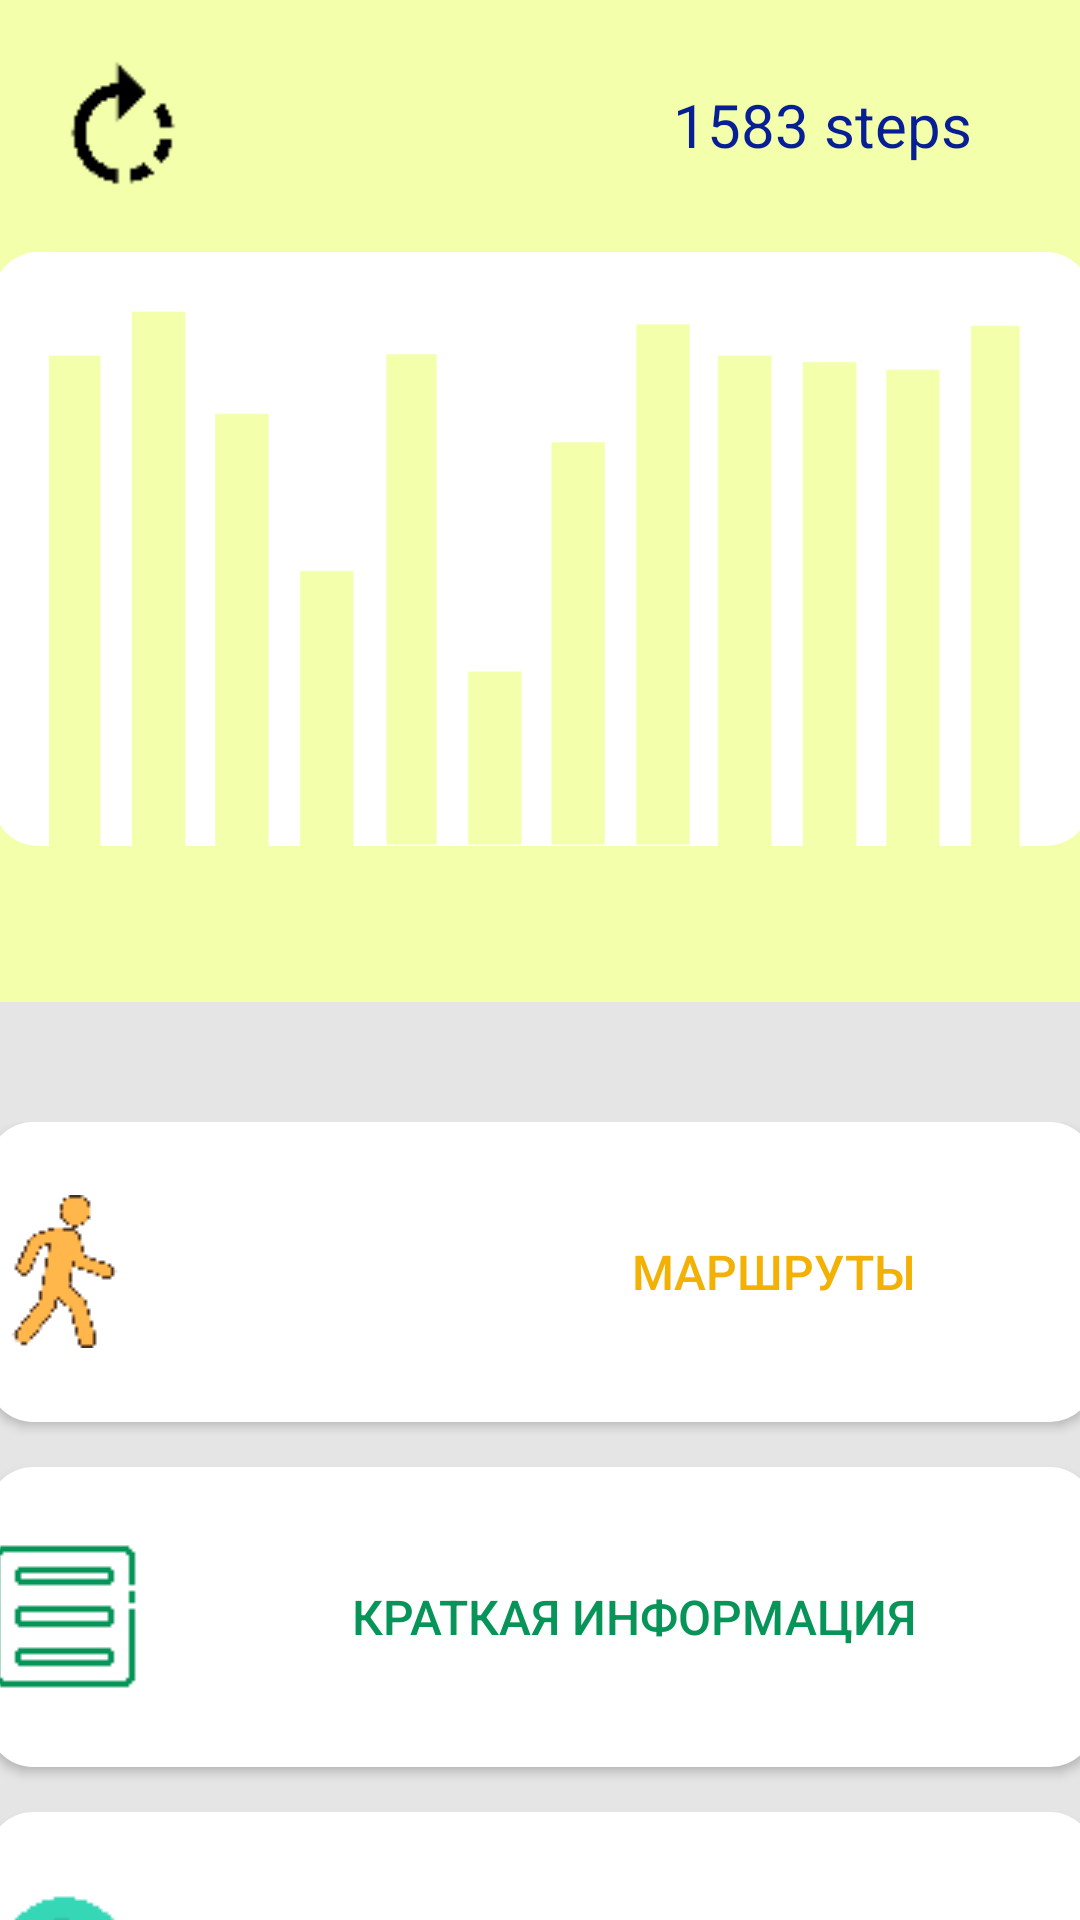

Icons on this 1080 × 1920 Android screen, each with its box as bbox(x1, y1, x2, y2):
free rotate: bbox(71, 62, 175, 184)
